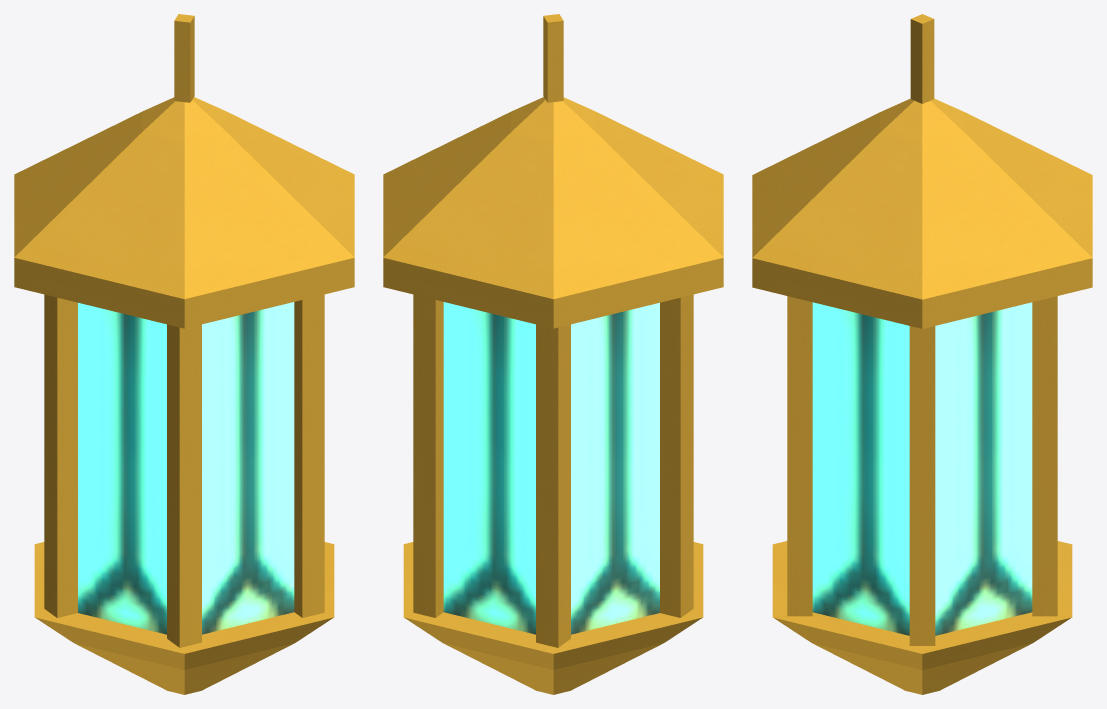
The model's file is rc_light_hanging_large.glb.
The picture shows the model from 3 angles, left to right: view 1: azimuth 30°, elevation 25°; view 2: azimuth 150°, elevation 25°; view 3: azimuth 270°, elevation 25°; orthographic projection.
Visible parts, largest first — view 1: SM_RC_Light_HangingLarge_0p8x1p5; view 2: SM_RC_Light_HangingLarge_0p8x1p5; view 3: SM_RC_Light_HangingLarge_0p8x1p5.
Boxes of the visible parts, left/top/right/bottom form: SM_RC_Light_HangingLarge_0p8x1p5: left=14, top=14, right=354, bottom=694; SM_RC_Light_HangingLarge_0p8x1p5: left=383, top=14, right=723, bottom=694; SM_RC_Light_HangingLarge_0p8x1p5: left=752, top=14, right=1092, bottom=694.
Bounding box in the file's own units: 0.8 × 1.5 × 0.6928.
1 material, 1 textured.
